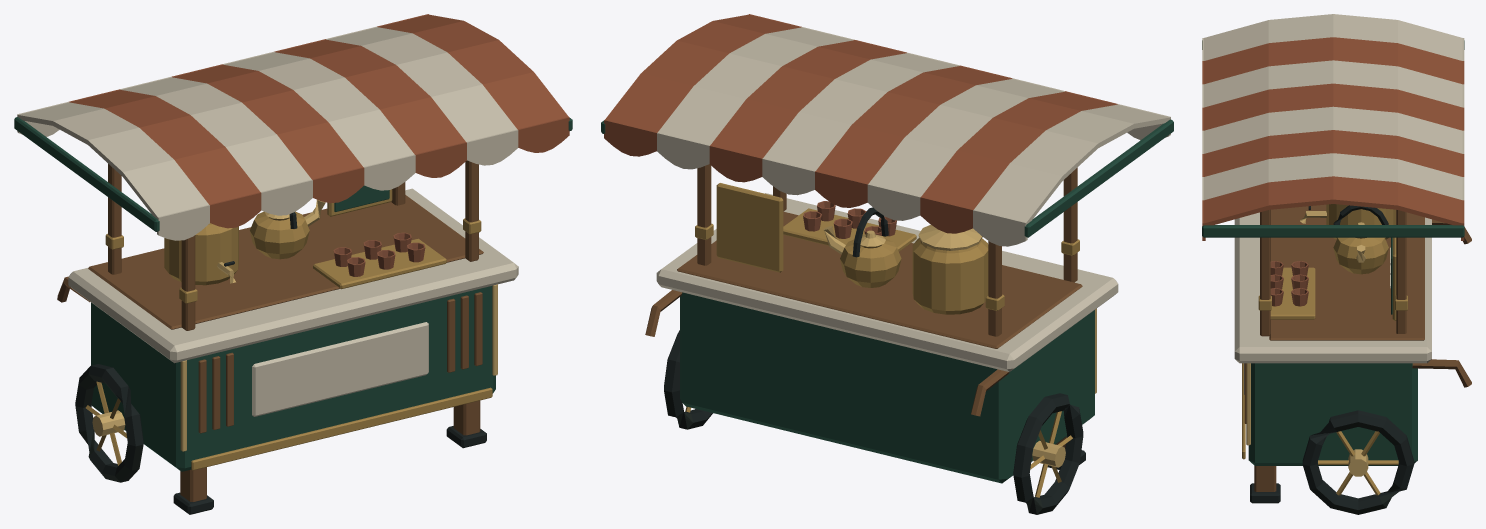
Rendered from chai-cart.glb.
3 views of the same model, side by side, from view 1: azimuth 30°, elevation 25°; view 2: azimuth 150°, elevation 25°; view 3: azimuth 270°, elevation 25° (orthographic). The views are drawn at different scales.
Parts seen in each view (by area): view 1: chai-cart; view 2: chai-cart; view 3: chai-cart.
Part boxes in pixels (x1=…): chai-cart: x1=14, y1=14, x2=572, y2=514; chai-cart: x1=601, y1=14, x2=1173, y2=514; chai-cart: x1=1202, y1=14, x2=1471, y2=514.
Bounding box in the file's own units: 3.21 × 2.62 × 1.94.
